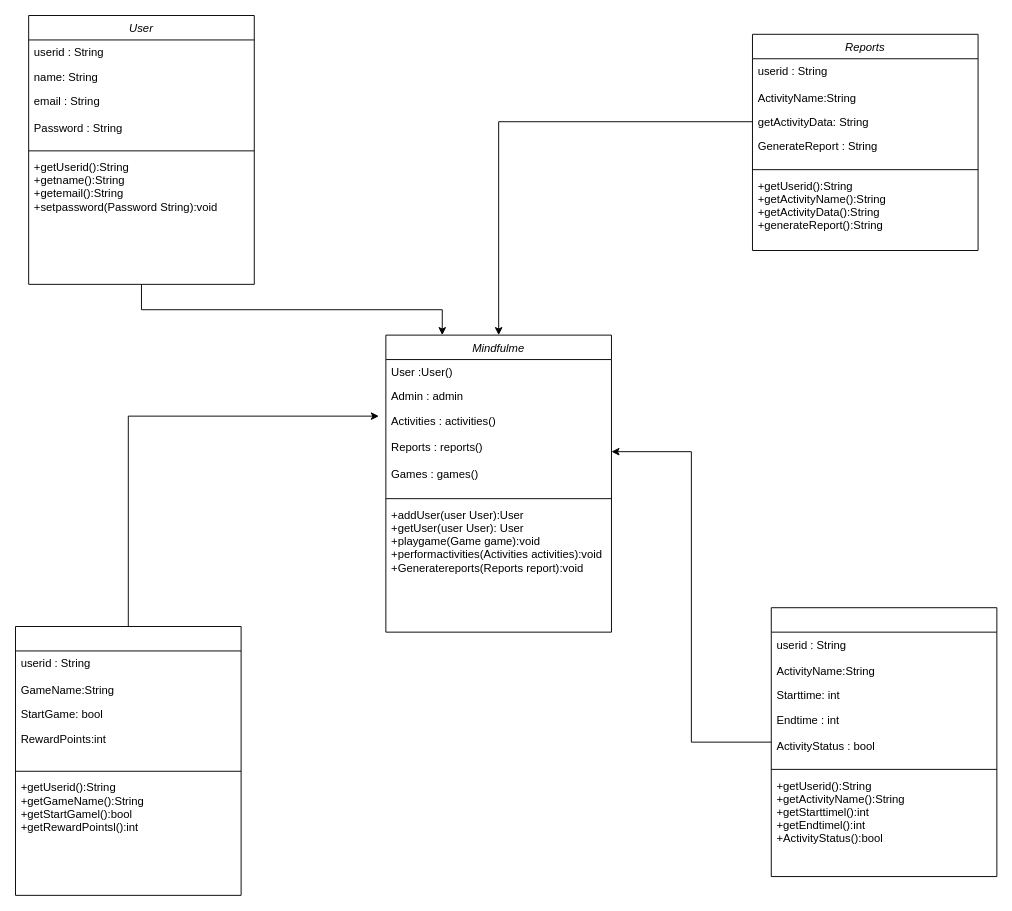
Image size: 1012x911. Some labels were removed from this diagram. Here are the shapes that lost their labels. From the top down, the box of each, then its label:
(15, 626, 241, 895): Games
(770, 607, 997, 877): Activities
